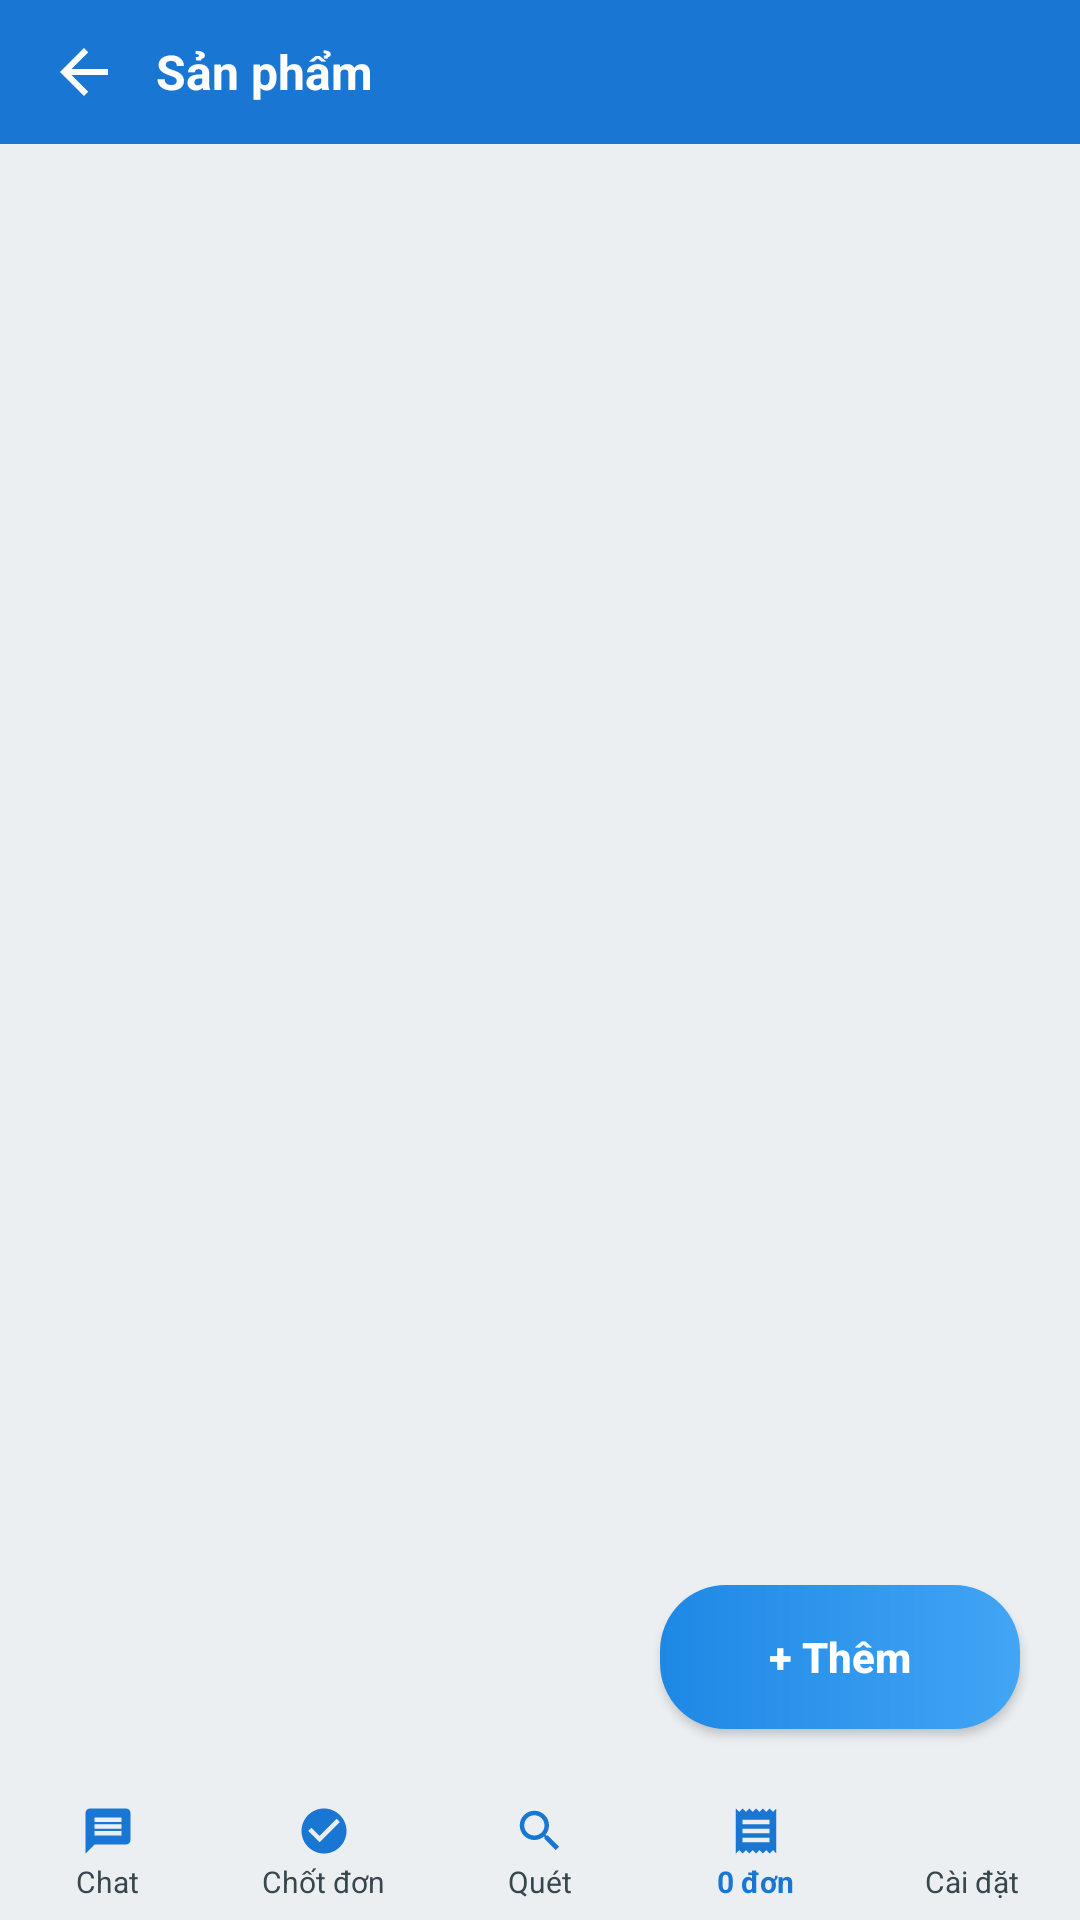

Named icons in this screenshot (1080×1920) and their bounding boxes, {"x1": x1, "y1": y1, "x2": x2, "y2": y2}:
Quay lại: {"x1": 60, "y1": 48, "x2": 108, "y2": 96}
